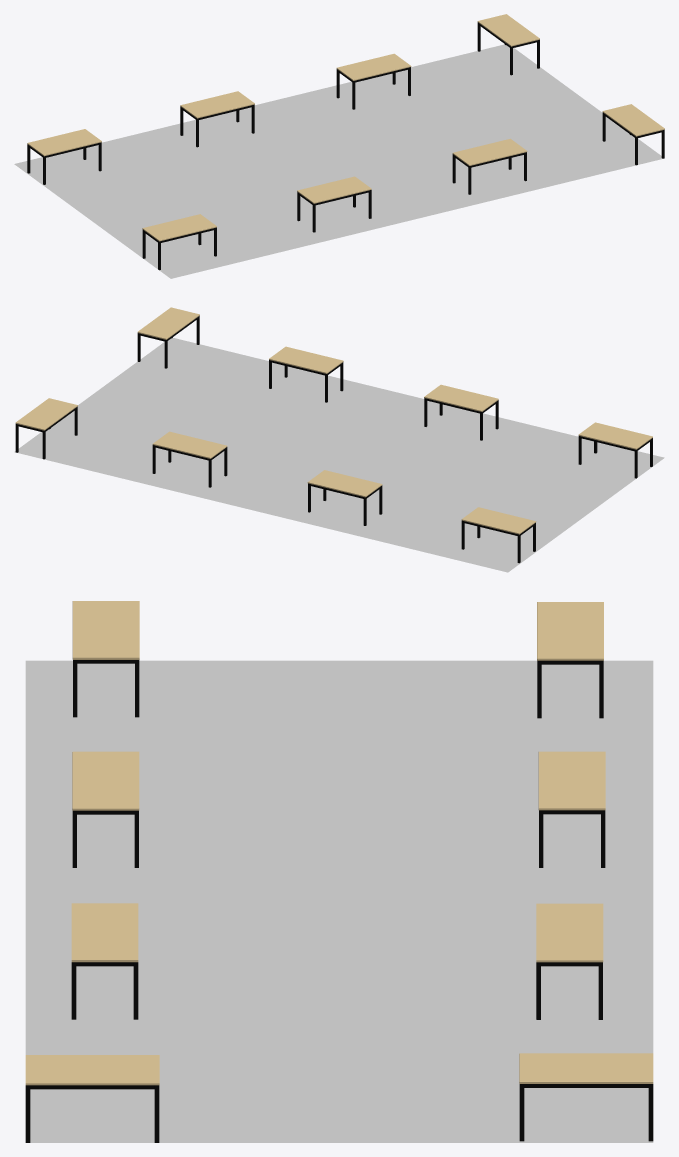
File: tables.fbx
3 renders of one model, top to bottom at view 1: azimuth 30°, elevation 25°; view 2: azimuth 150°, elevation 25°; view 3: azimuth 270°, elevation 25°, orthographic. The views are drawn at different scales.
Visible parts, largest first — view 1: tables; view 2: tables; view 3: tables.
Part boxes in pixels (x1,y1,x2,y2): tables: [14, 14, 664, 278]; tables: [14, 307, 664, 572]; tables: [25, 601, 653, 1142].
Bounding box in the file's own units: 127791 × 7400 × 70320.
